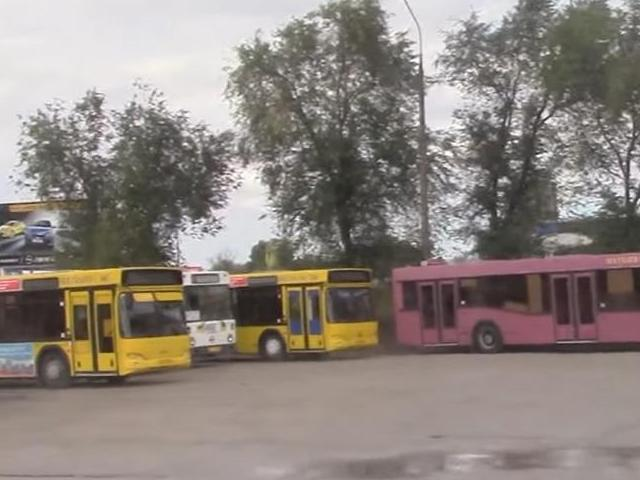bus: (394, 242, 640, 357), (0, 261, 195, 383), (223, 267, 378, 360), (180, 265, 237, 354)
